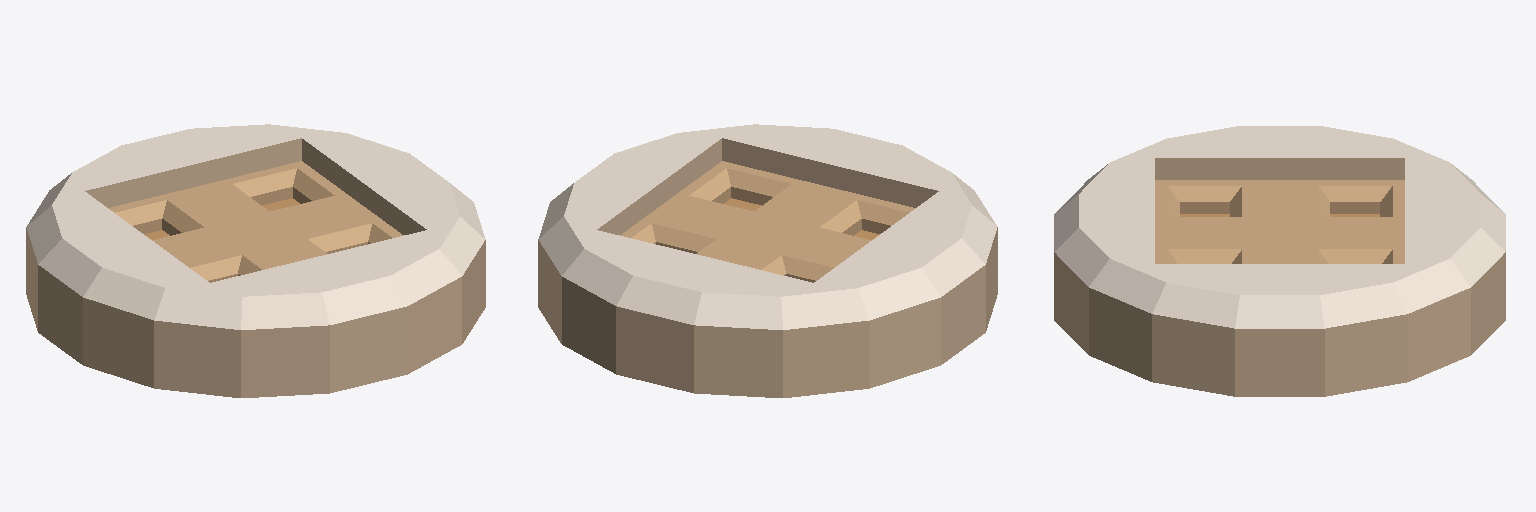
The model's file is Puzzle_Track_Rotating_Platform_Unconnected.obj.
3 renders of one model, left to right at view 1: azimuth 30°, elevation 25°; view 2: azimuth 150°, elevation 25°; view 3: azimuth 270°, elevation 25°, orthographic.
Visible parts, largest first — view 1: object1; view 2: object1; view 3: object1.
Boxes of the visible parts, box(x1,y1,x2,y2) form: object1: box(26, 124, 485, 397); object1: box(538, 124, 997, 397); object1: box(1054, 126, 1505, 396).
Size of the model in its own units: 0.9 by 0.2 by 0.9.